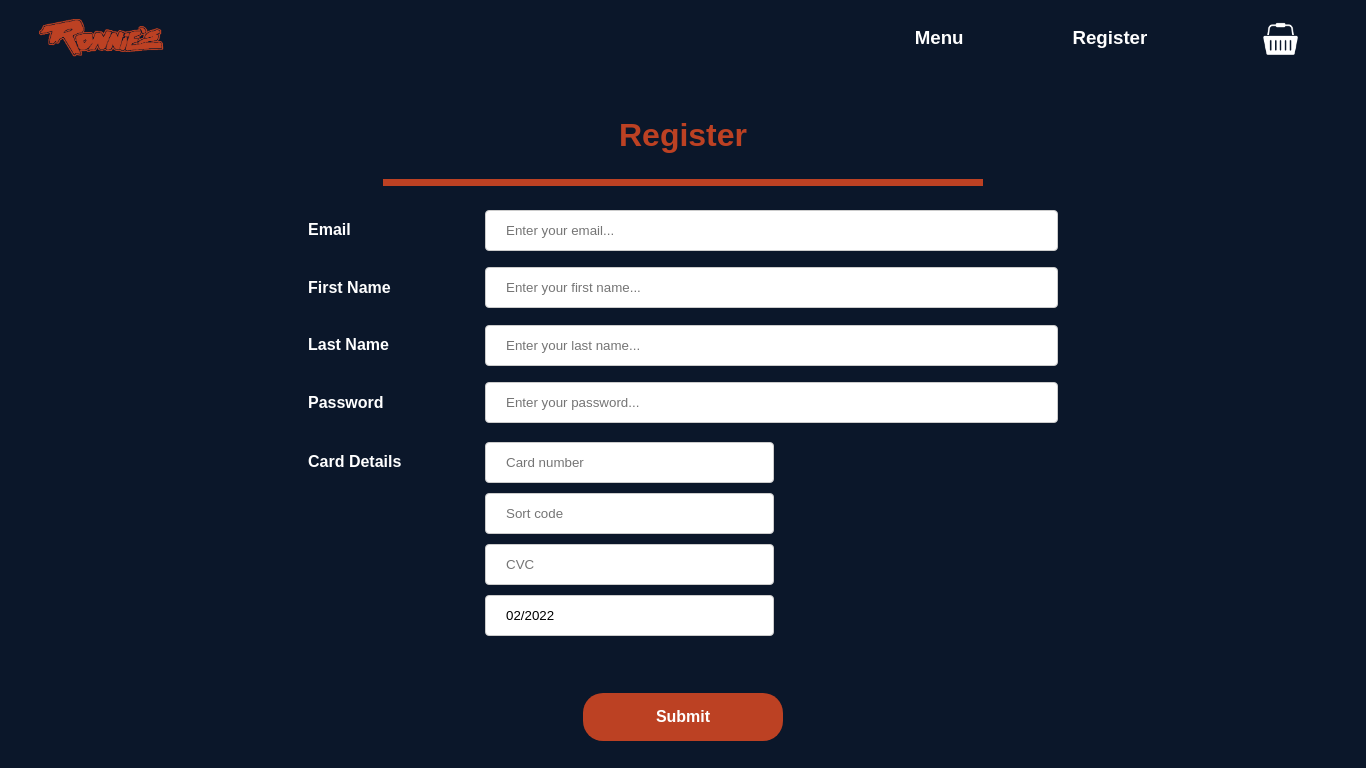
Scenario: Header: › Takes me to the basket page when I click the link
Step 1. Click the link with test id "shopping-cart" → (1281, 38), box x1=1261 y1=19 x2=1300 y2=58
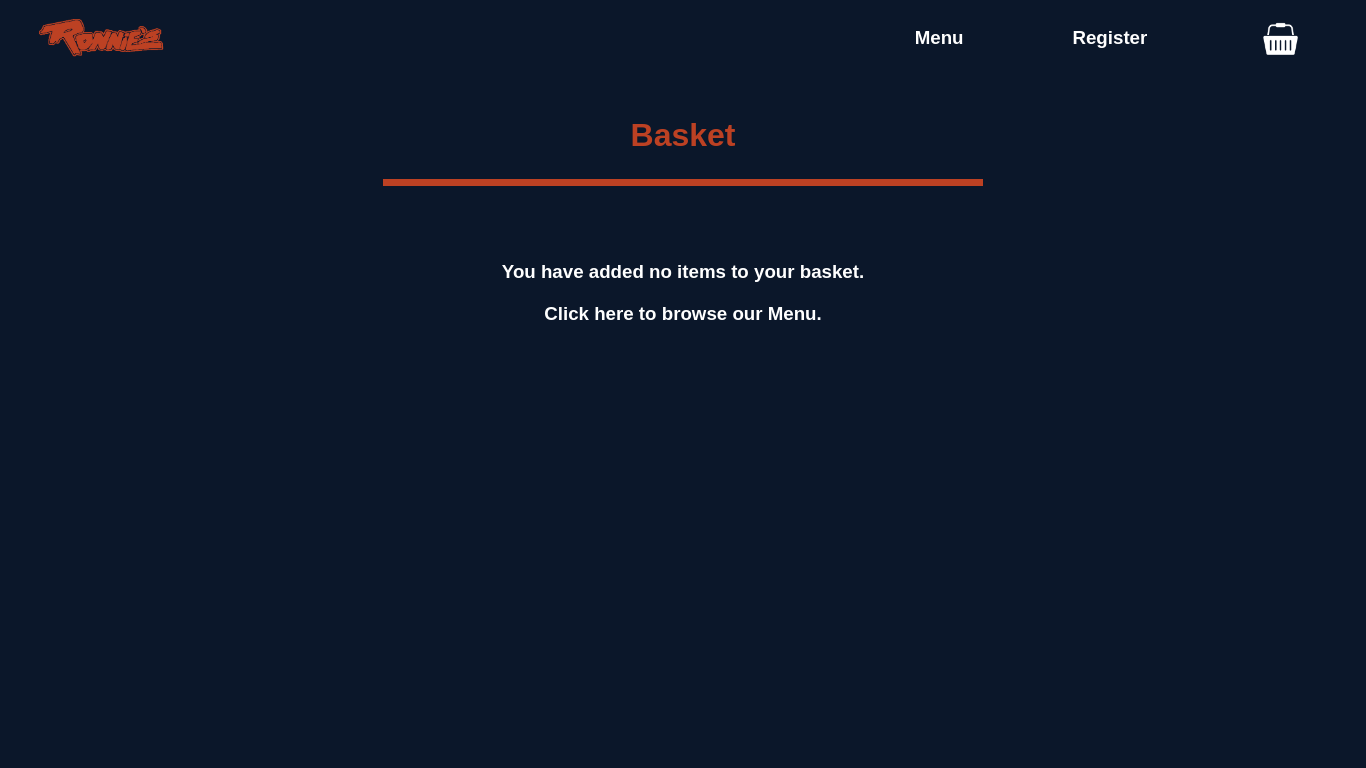
expect the heading "Basket" is shown: met, box x1=630 y1=117 x2=736 y2=154
